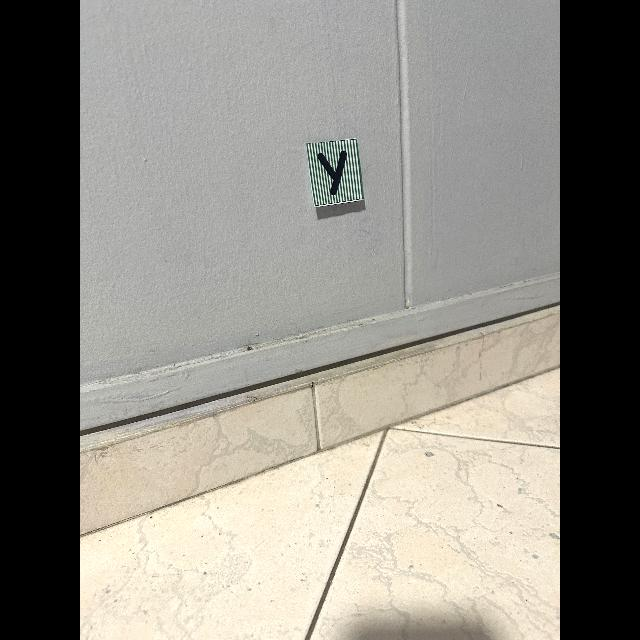Y: (317, 150, 347, 196)
